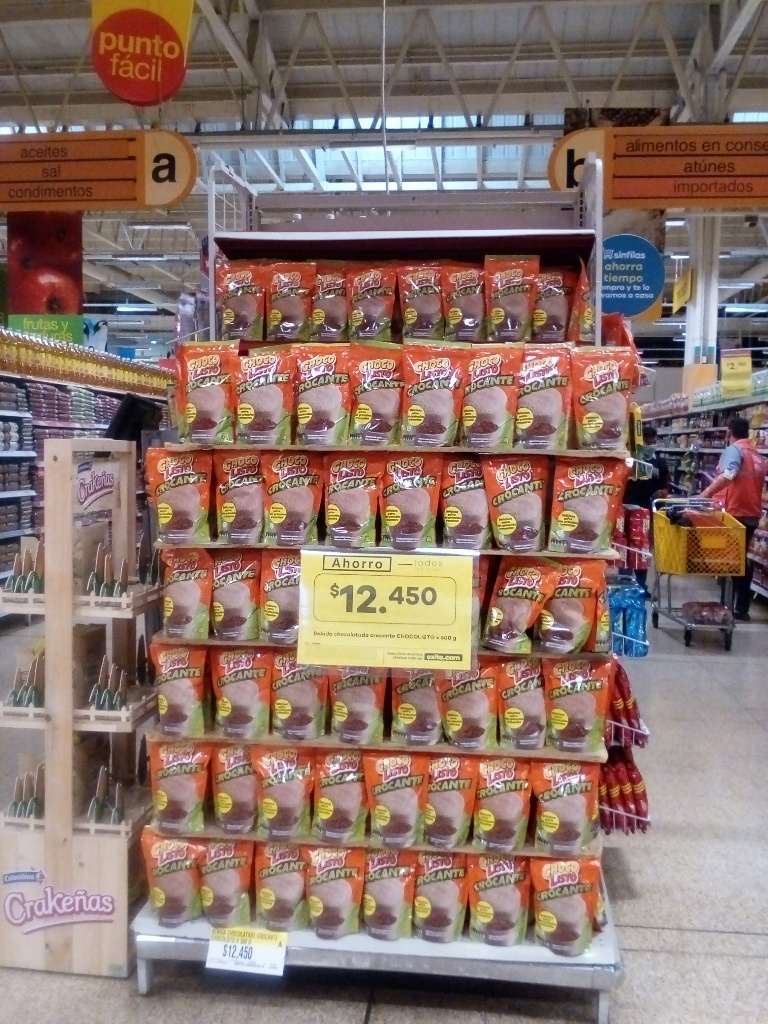COL0170102DYP50000: (527, 859, 595, 954)
